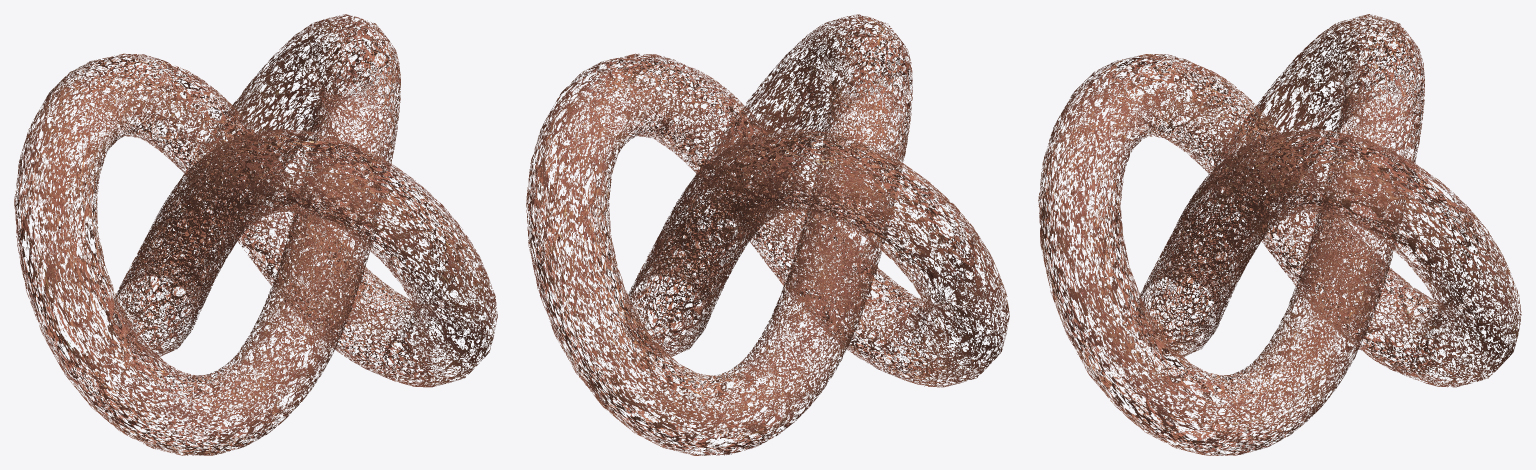
3 renders of one model, left to right at view 1: azimuth 30°, elevation 25°; view 2: azimuth 150°, elevation 25°; view 3: azimuth 270°, elevation 25°, orthographic.
Visible parts, largest first — view 1: Torus Knot01; view 2: Torus Knot01; view 3: Torus Knot01.
Part boxes in pixels (bbox=[...]): Torus Knot01: bbox=[14, 14, 497, 455]; Torus Knot01: bbox=[526, 14, 1009, 455]; Torus Knot01: bbox=[1038, 14, 1521, 455].
Bounding box in the file's own units: 26.22 × 20.21 × 27.92.
Materials: 1 (1 with a texture image).
